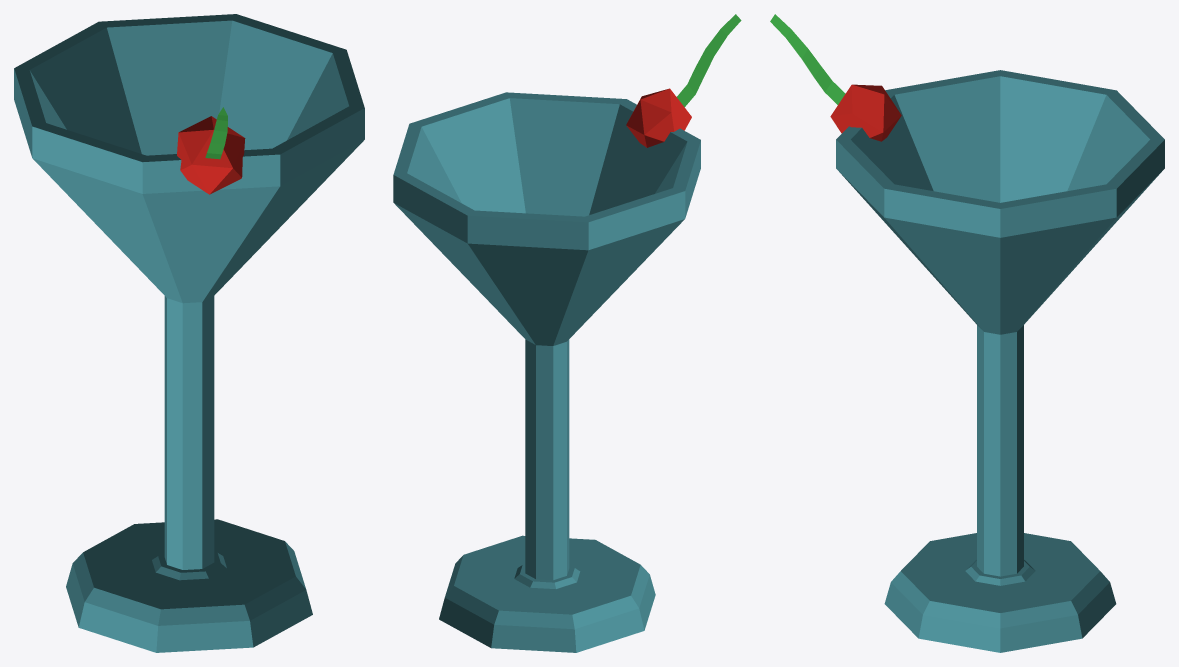
The model's file is Cocktail Glass 2.fbx.
3 views of the same model, side by side, from view 1: azimuth 30°, elevation 25°; view 2: azimuth 150°, elevation 25°; view 3: azimuth 270°, elevation 25° (orthographic). The views are drawn at different scales.
Parts seen in each view (by area): view 1: Icosphere; view 2: Icosphere; view 3: Icosphere.
Part boxes in pixels (box(x1,y1,x2,y2)): Icosphere: box(14, 14, 364, 652); Icosphere: box(393, 14, 741, 652); Icosphere: box(770, 14, 1164, 652).
Bounding box in the file's own units: 0.2398 × 0.3686 × 0.1998.
